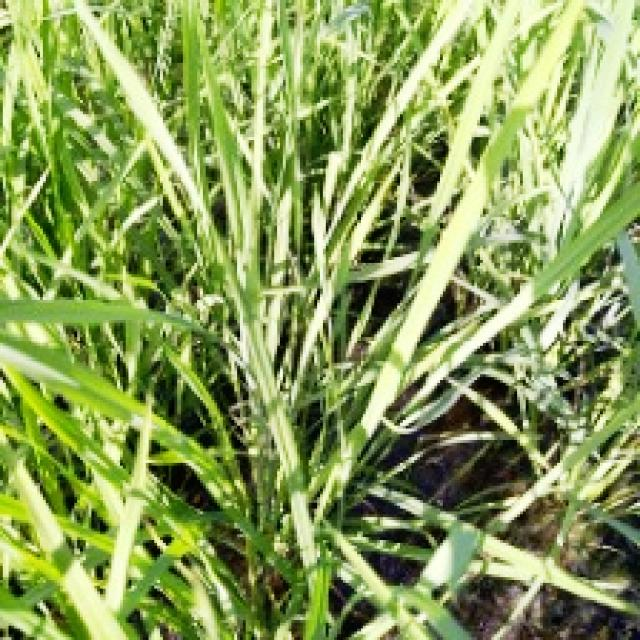health: (411, 0, 640, 317)
